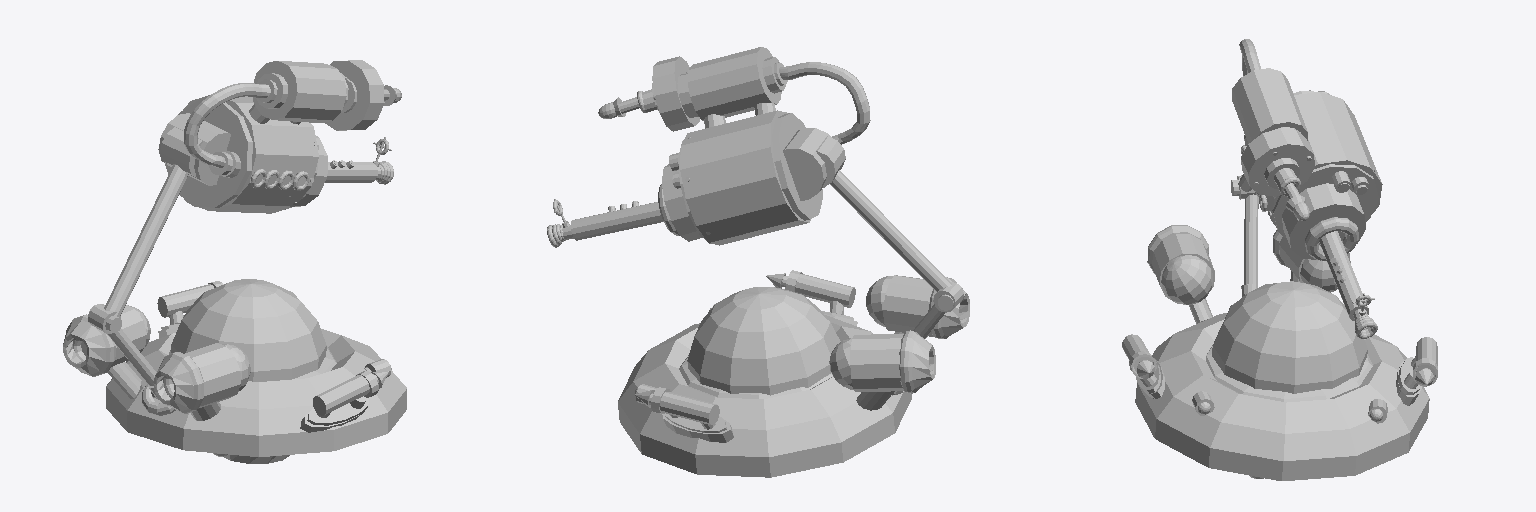
The picture shows the model from 3 angles: view 1: azimuth 30°, elevation 25°; view 2: azimuth 150°, elevation 25°; view 3: azimuth 270°, elevation 25°; orthographic projection.
Parts seen in each view (by area): view 1: group[number redacted], group[number redacted], group[number redacted], group[number redacted], group[number redacted], group[number redacted], group[number redacted], group[number redacted], group[number redacted], group[number redacted], group[number redacted], group[number redacted] (+8 smaller); view 2: group[number redacted], group[number redacted], group[number redacted], group[number redacted], group[number redacted], group[number redacted], group[number redacted], group[number redacted], group[number redacted], group[number redacted], group[number redacted], group[number redacted] (+8 smaller); view 3: group[number redacted], group[number redacted], group[number redacted], group[number redacted], group[number redacted], group[number redacted], group[number redacted], group[number redacted], group[number redacted], group[number redacted], group[number redacted], group[number redacted] (+5 smaller).
Boxes of the visible parts, x1,y1,x2,y2 form: group[number redacted]: [106, 279, 406, 463]; group[number redacted]: [183, 95, 318, 213]; group[number redacted]: [253, 61, 346, 122]; group[number redacted]: [165, 100, 318, 209]; group[number redacted]: [104, 164, 188, 316]; group[number redacted]: [300, 371, 388, 432]; group[number redacted]: [324, 60, 384, 130]; group[number redacted]: [153, 352, 203, 413]; group[number redacted]: [185, 343, 240, 407]; group[number redacted]: [63, 314, 115, 376]; group[number redacted]: [184, 83, 270, 167]; group[number redacted]: [158, 113, 230, 185]; group[number redacted]: [618, 287, 911, 477]; group[number redacted]: [680, 110, 810, 245]; group[number redacted]: [688, 47, 781, 120]; group[number redacted]: [635, 387, 733, 442]; group[number redacted]: [850, 334, 903, 391]; group[number redacted]: [830, 170, 951, 291]; group[number redacted]: [883, 275, 932, 336]; group[number redacted]: [783, 128, 831, 200]; group[number redacted]: [678, 113, 822, 243]; group[number redacted]: [766, 270, 857, 325]; group[number redacted]: [652, 56, 699, 131]; group[number redacted]: [779, 62, 870, 144]; group[number redacted]: [1135, 281, 1429, 480]; group[number redacted]: [1245, 92, 1382, 237]; group[number redacted]: [1232, 68, 1307, 143]; group[number redacted]: [1241, 128, 1314, 196]; group[number redacted]: [1282, 183, 1365, 260]; group[number redacted]: [1161, 255, 1212, 304]; group[number redacted]: [1396, 337, 1437, 405]; group[number redacted]: [1206, 345, 1372, 402]; group[number redacted]: [1244, 91, 1378, 236]; group[number redacted]: [1122, 334, 1164, 398]; group[number redacted]: [1319, 231, 1368, 320]; group[number redacted]: [1152, 234, 1214, 303].
Bounding box in the file's own units: 1.72 × 1.8 × 1.32.